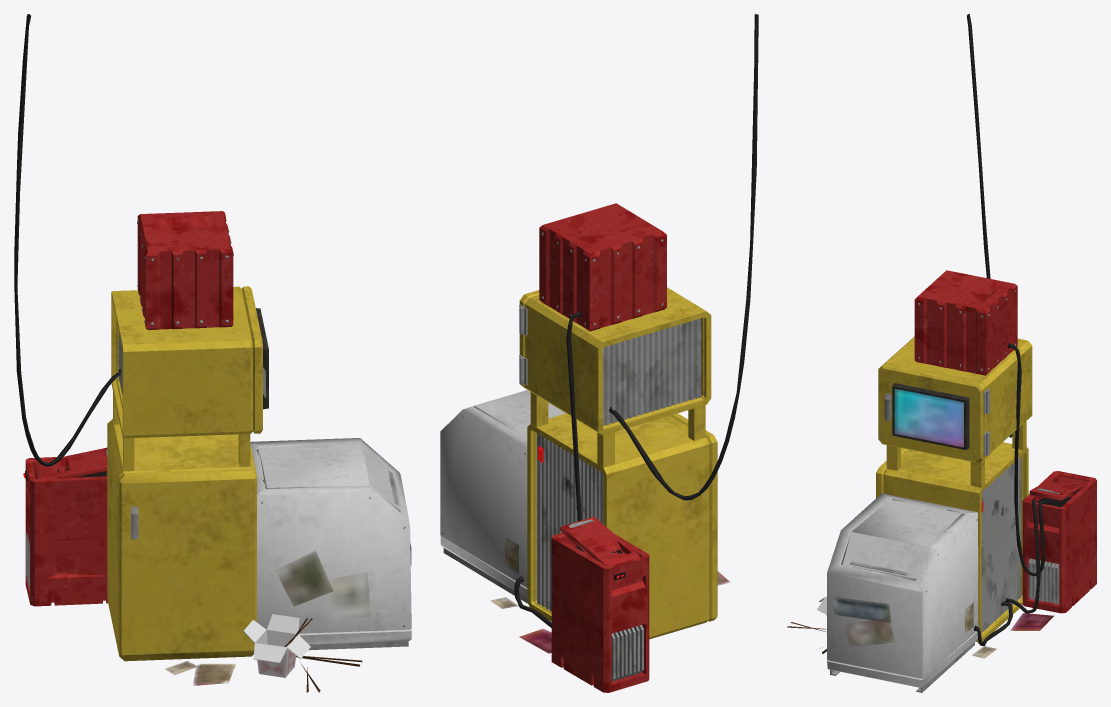
File: KB3D_NEC_BldgSM_B_FridgeB.glb
The picture shows the model from 3 angles, left to right: view 1: azimuth 30°, elevation 25°; view 2: azimuth 150°, elevation 25°; view 3: azimuth 270°, elevation 25°; orthographic projection. The views are drawn at different scales.
Visible parts, largest first — view 1: KB3D_NEC_BldgSM_B_FridgeB; view 2: KB3D_NEC_BldgSM_B_FridgeB; view 3: KB3D_NEC_BldgSM_B_FridgeB.
Part boxes in pixels (left/top/right/bottom): KB3D_NEC_BldgSM_B_FridgeB: left=14, top=14, right=411, bottom=692; KB3D_NEC_BldgSM_B_FridgeB: left=440, top=14, right=758, bottom=692; KB3D_NEC_BldgSM_B_FridgeB: left=787, top=14, right=1096, bottom=692.
Size of the model in its own units: 1.78 by 3.13 by 1.63.
Materials: 12 (10 with a texture image).
